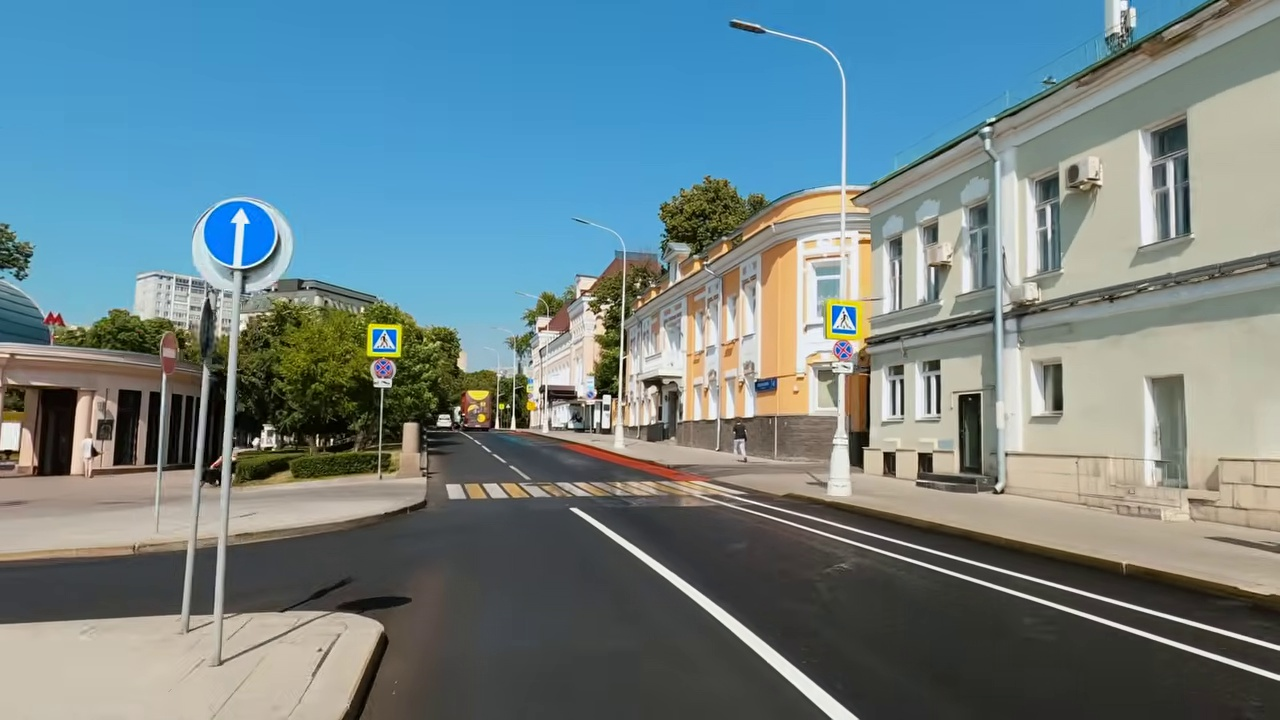apagada: (728, 17, 761, 39)
